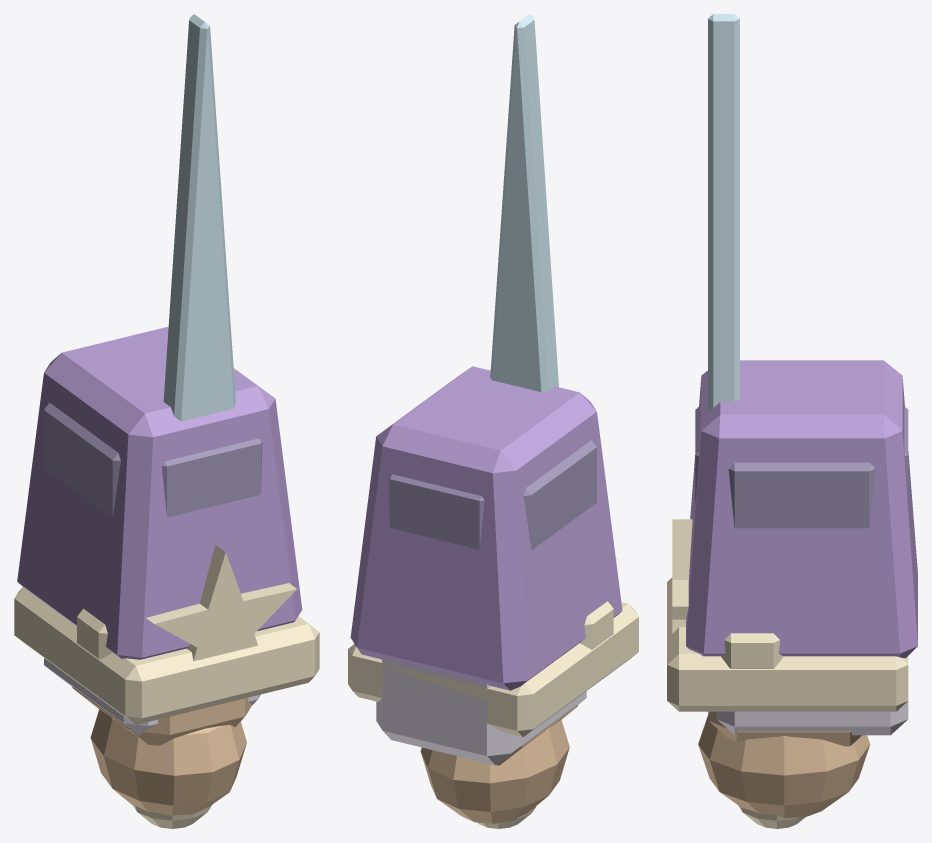
File: Oracle_Defender_RightArm.fbx
3 views of the same model, side by side, from view 1: azimuth 30°, elevation 25°; view 2: azimuth 150°, elevation 25°; view 3: azimuth 270°, elevation 25° (orthographic). The views are drawn at different scales.
Visible parts, largest first — view 1: Oracle_Defender_RightArm; view 2: Oracle_Defender_RightArm; view 3: Oracle_Defender_RightArm.
Part boxes in pixels (bbox=[...]): Oracle_Defender_RightArm: bbox=[14, 14, 319, 828]; Oracle_Defender_RightArm: bbox=[348, 14, 638, 828]; Oracle_Defender_RightArm: bbox=[667, 14, 917, 828].
Bounding box in the file's own units: 31 × 126 × 35.33.
